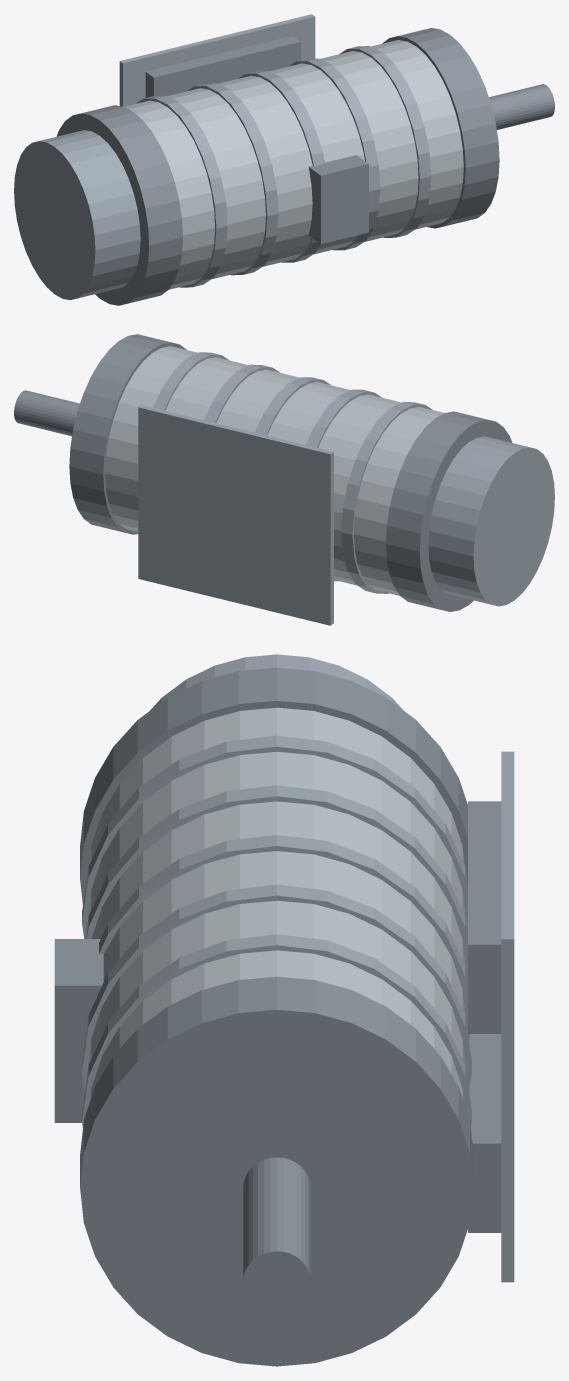
The model's file is nema_56.glb.
The picture shows the model from 3 angles, top to bottom: view 1: azimuth 30°, elevation 25°; view 2: azimuth 150°, elevation 25°; view 3: azimuth 270°, elevation 25°; orthographic projection. The views are drawn at different scales.
Visible parts, largest first — view 1: nema_56; view 2: nema_56; view 3: nema_56.
Boxes of the visible parts, x1=… form: nema_56: x1=14, y1=14, x2=554, y2=305; nema_56: x1=14, y1=334, x2=554, y2=625; nema_56: x1=54, y1=654, x2=514, y2=1366.
Bounding box in the file's own units: 1.74 × 0.6032 × 0.7047.
